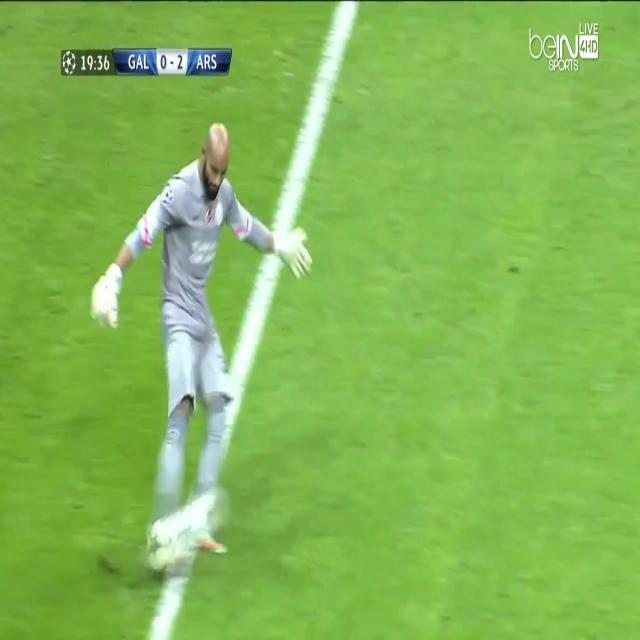Ball: (145, 506, 203, 577)
Goalkeeper: (88, 121, 314, 557)
